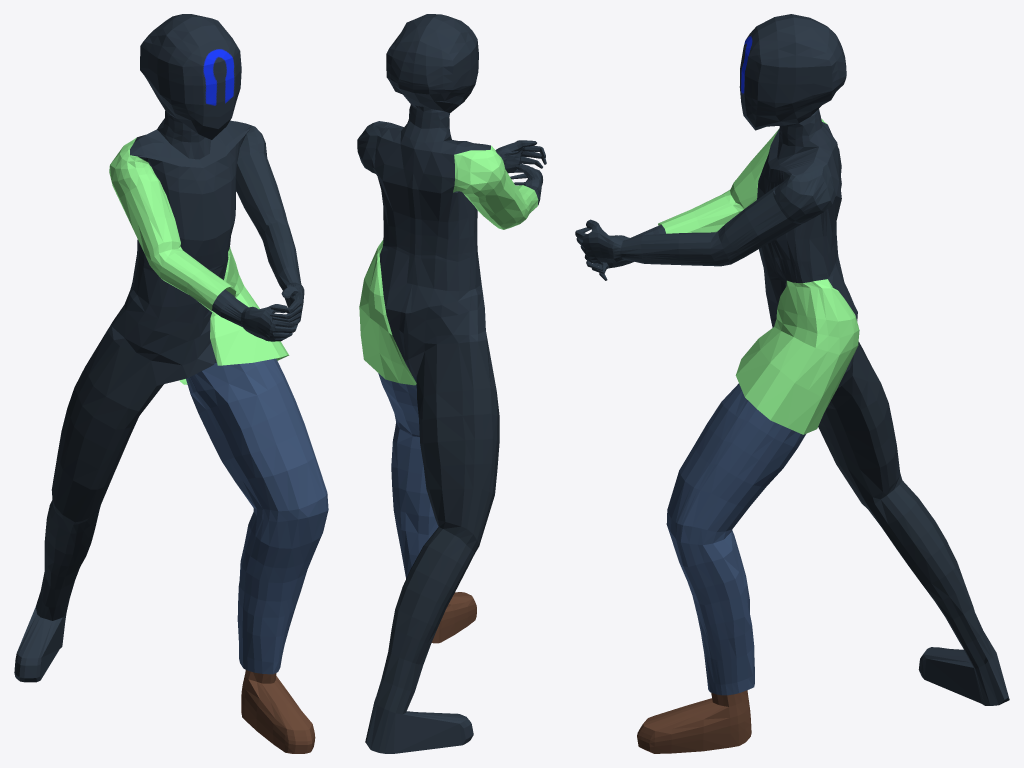
Rendered from Mar_Attack_000002.obj.
3 views of the same model, side by side, from view 1: azimuth 30°, elevation 25°; view 2: azimuth 150°, elevation 25°; view 3: azimuth 270°, elevation 25° (orthographic). The views are drawn at different scales.
Visible parts, largest first — view 1: Cube.000_Cube.001; view 2: Cube.000_Cube.001; view 3: Cube.000_Cube.001.
Boxes of the visible parts, x1,y1,x2,y2 form: Cube.000_Cube.001: (14, 14, 328, 753); Cube.000_Cube.001: (357, 14, 546, 753); Cube.000_Cube.001: (575, 14, 1009, 753).
Bounding box in the file's own units: 1.09 × 3.74 × 2.07.
